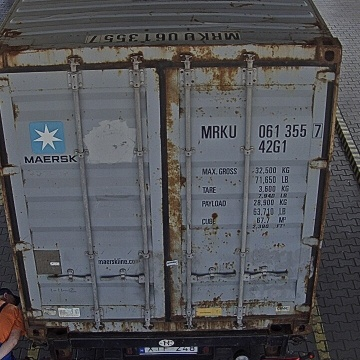serial_id: (202, 123, 323, 138)
